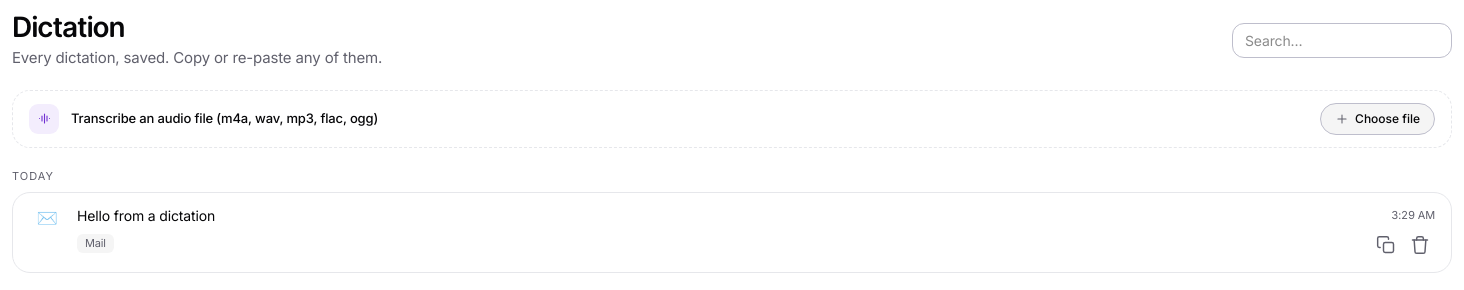
DictationScreen copy (A-10) › shows the Copied confirmation only when the write succeeds
Expected: the text "Hello from a dictation" is shown, [77,207,215,224]
Step 1. Click the button named "Copy to clipboard" → [1386, 245], box [1371,230,1401,260]
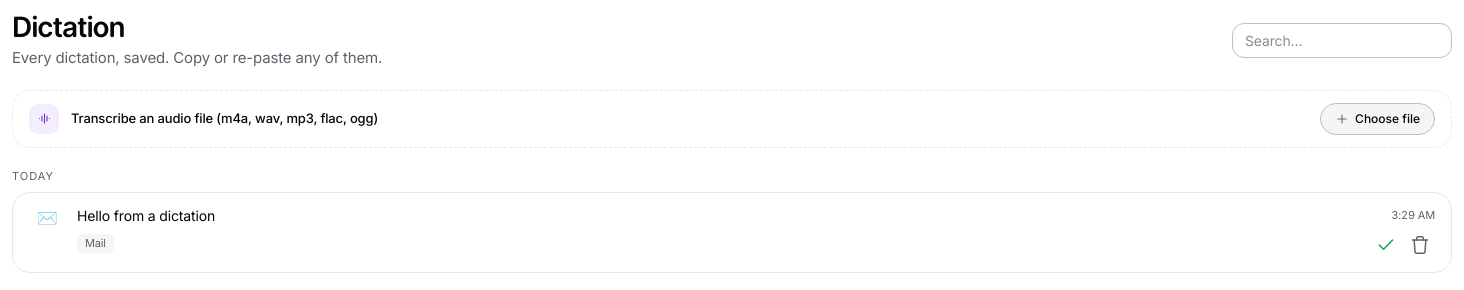
Now the button titled "Copied!" is shown, box [1371,230,1401,260]
